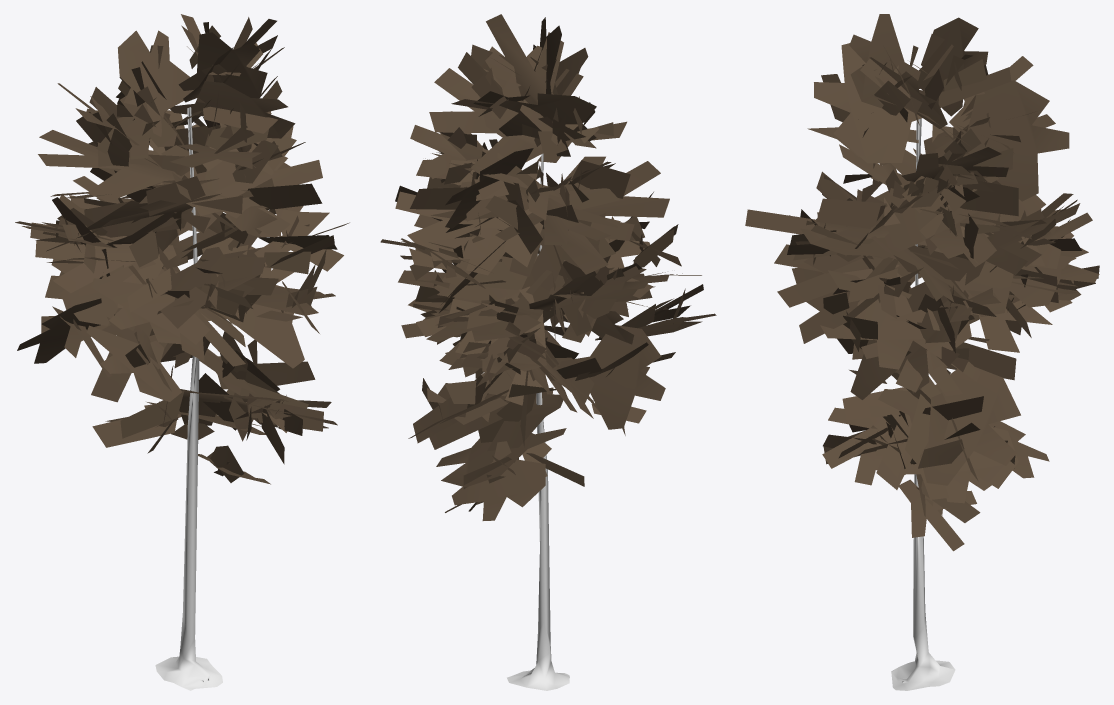
The model's file is fir_b_l.glb.
3 views of the same model, side by side, from view 1: azimuth 30°, elevation 25°; view 2: azimuth 150°, elevation 25°; view 3: azimuth 270°, elevation 25° (orthographic). The views are drawn at different scales.
Parts seen in each view (by area): view 1: fir_tree_01_b_LOD2.002; view 2: fir_tree_01_b_LOD2.002; view 3: fir_tree_01_b_LOD2.002.
Boxes of the visible parts, x1,y1,x2,y2 form: fir_tree_01_b_LOD2.002: [15, 14, 349, 690]; fir_tree_01_b_LOD2.002: [380, 14, 716, 690]; fir_tree_01_b_LOD2.002: [745, 14, 1099, 690].
Size of the model in its own units: 6.62 by 14.39 by 6.91.
